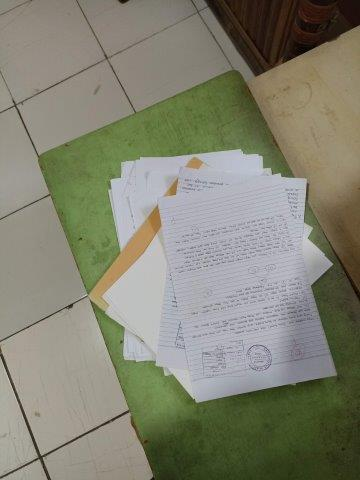kertas: (88, 149, 337, 400)
